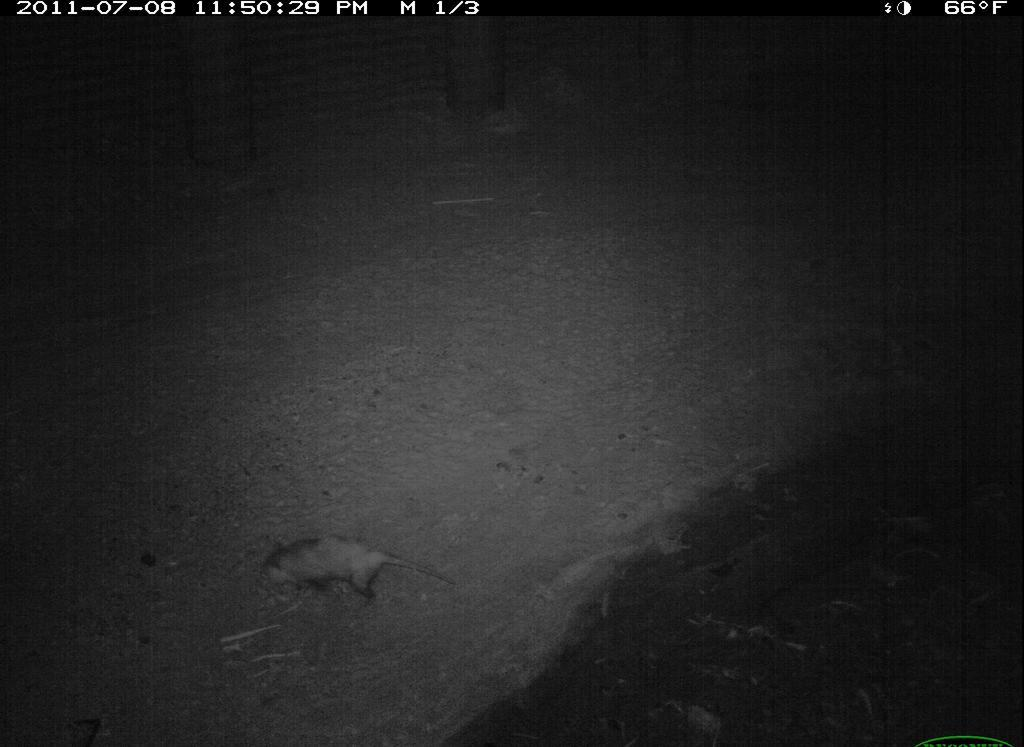opossum: (253, 519, 474, 620)
